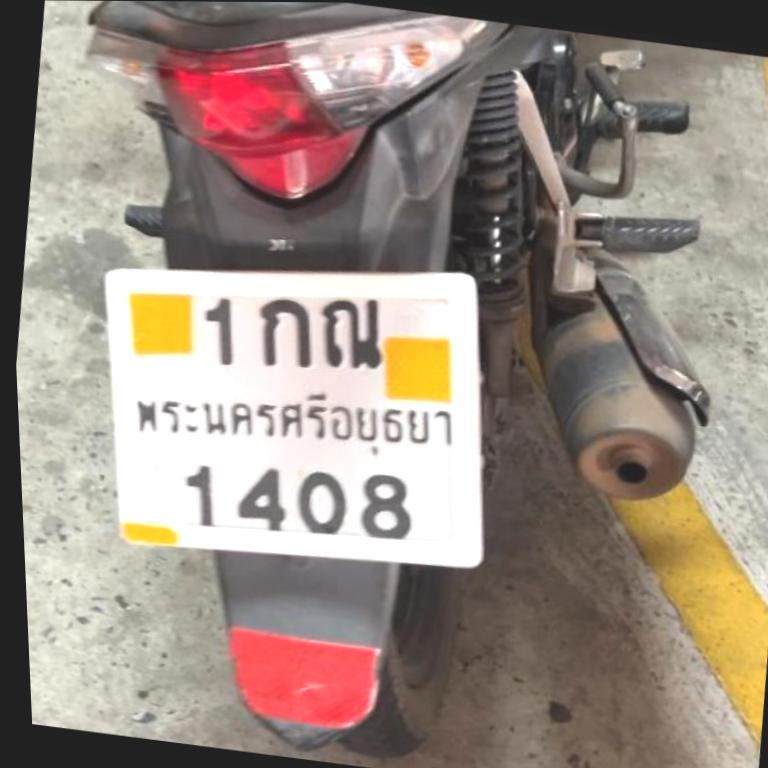license plate: (70, 225, 525, 591)
